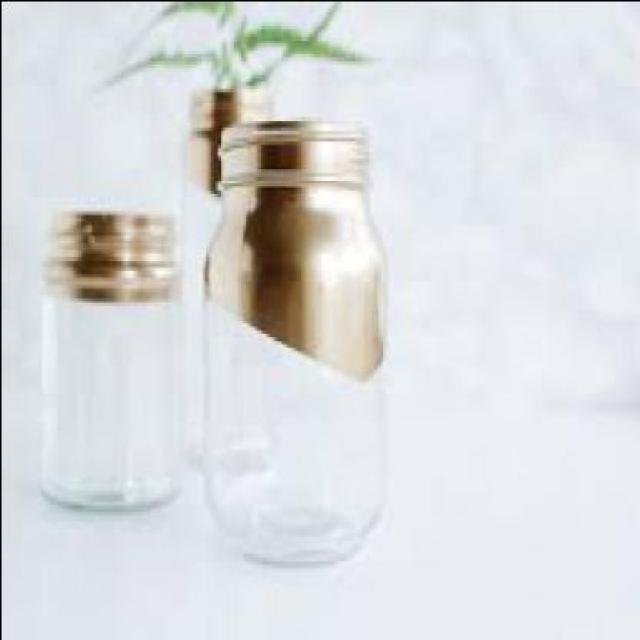GLASS: (198, 115, 384, 556), (39, 206, 179, 508)
